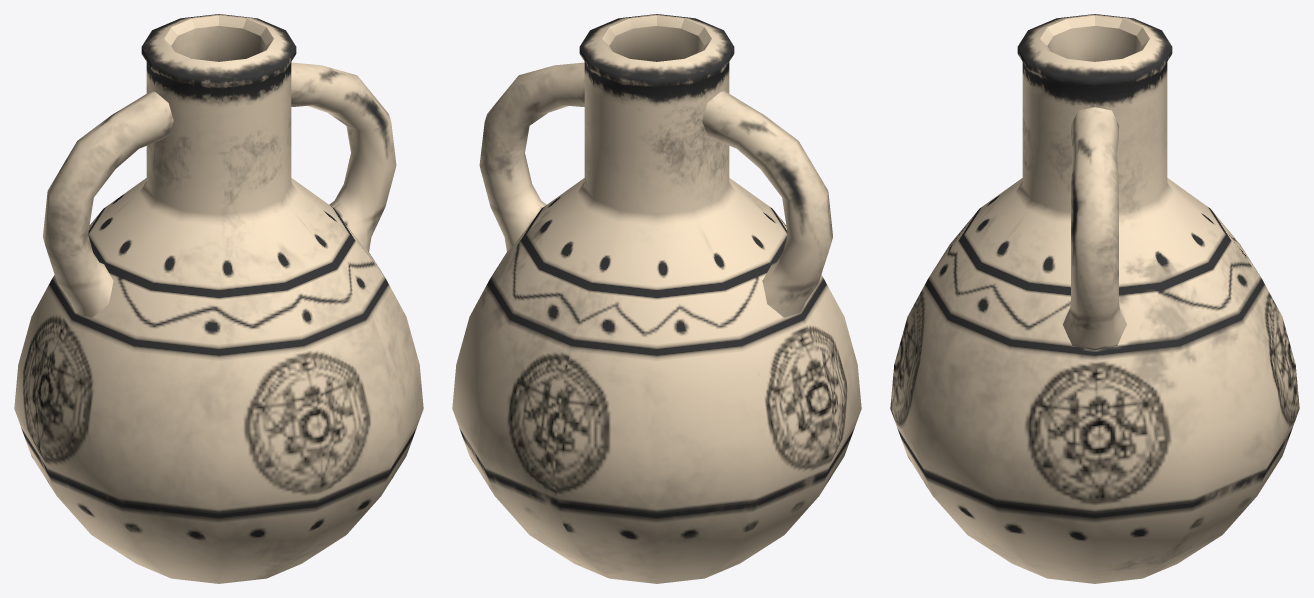
Rendered from Vase_1.fbx.
3 views of the same model, side by side, from view 1: azimuth 30°, elevation 25°; view 2: azimuth 150°, elevation 25°; view 3: azimuth 270°, elevation 25° (orthographic).
Visible parts, largest first — view 1: Vase_1; view 2: Vase_1; view 3: Vase_1.
Boxes of the visible parts, x1,y1,x2,y2 form: Vase_1: [14, 14, 423, 583]; Vase_1: [452, 14, 861, 583]; Vase_1: [890, 14, 1299, 583].
Size of the model in its own units: 55.56 by 78.53 by 55.56.
